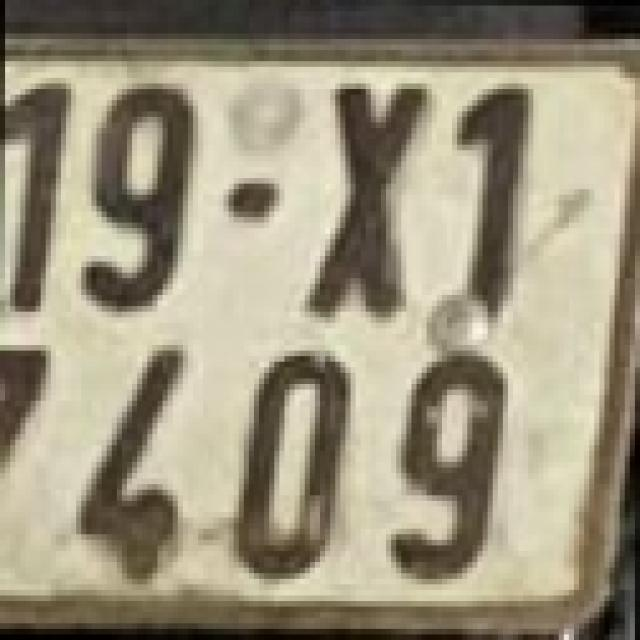0: (224, 340, 356, 584)
1: (447, 78, 533, 328), (0, 72, 66, 312)
4: (71, 339, 193, 590)
7: (0, 339, 51, 556)
9: (381, 345, 513, 584), (76, 78, 198, 317)
X: (304, 72, 422, 323)
